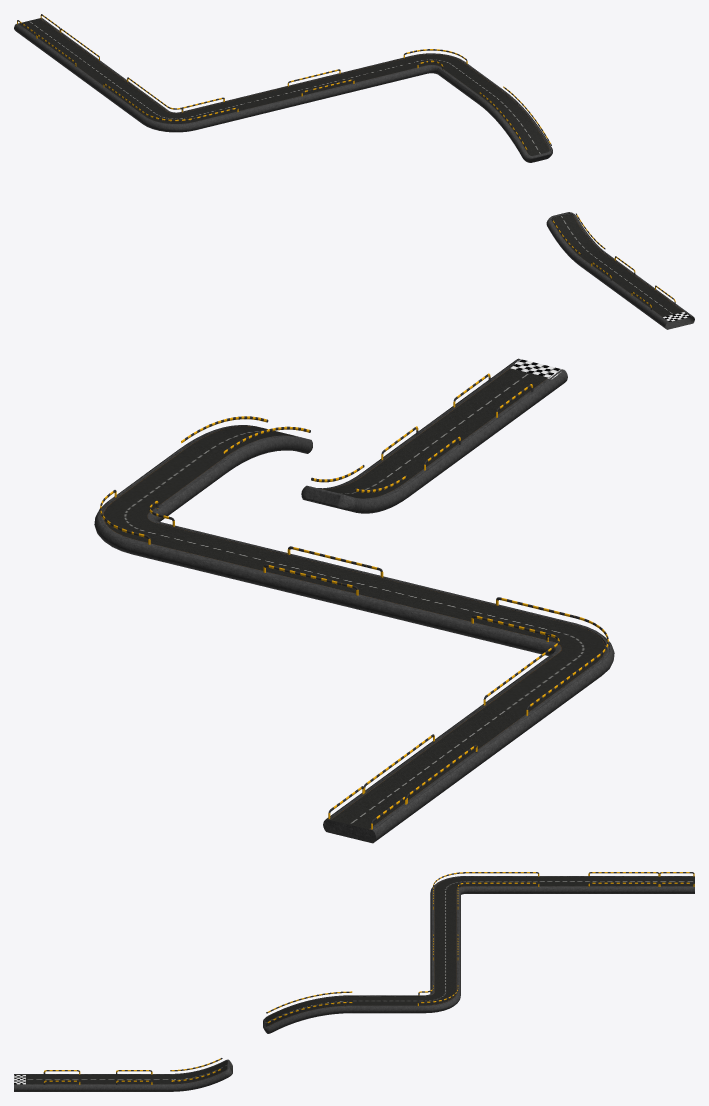
File: map5.fbx
3 renders of one model, top to bottom at view 1: azimuth 30°, elevation 25°; view 2: azimuth 150°, elevation 25°; view 3: azimuth 270°, elevation 25°, orthographic. The views are drawn at different scales.
Visible parts, largest first — view 1: Terrain_Flat_Bar_4, Terrain_Flat_Bar_4__1_, Terrain_Flat_BarStart_3, Terrain_CurveDown_Bar_3_1, Terrain_CurveDown_Bar_3_3, Terrain_Flat_Bar_11__2_, Terrain_Flat_2, Terrain_Flat_Bar_11, Terrain_Flat_BarStart_1, Terrain_Left_Flat_Bar, Dummy_Start_1, Terrain_Right_Flat_Bar_3; view 2: Terrain_Flat_Bar_4, Terrain_Flat_Bar_4__1_, Terrain_Flat_BarStart_3, Terrain_Flat_2, Terrain_Flat_Bar_11__2_, Terrain_Flat_Bar_11, Terrain_Flat_BarStart_1, Terrain_CurveDown_Bar_3_1, Dummy_Start_1, Terrain_Right_Flat_Bar_3, Terrain_CurveDown_Bar_3_3, Terrain_Left_Flat_Bar (+2 smaller); view 3: Terrain_Flat_BarStart_3, Terrain_Flat_Bar_4__1_, Terrain_Flat_Bar_4, Terrain_CurveDown_Bar_3_1, Terrain_Flat_2, Terrain_Flat_Bar_11, Terrain_Flat_Bar_11__2_, Terrain_Flat_BarStart_1, Terrain_CurveDown_Bar_3_3, Terrain_Right_Flat_Bar_3, Dummy_Start_1, Terrain_Left_Flat_Bar.
Boxes of the visible parts, x1=… form: Terrain_Flat_Bar_4: x1=296, y1=55, x2=428, y2=101; Terrain_Flat_Bar_4__1_: x1=180, y1=84, x2=312, y2=129; Terrain_Flat_BarStart_3: x1=34, y1=32, x2=130, y2=93; Terrain_CurveDown_Bar_3_1: x1=477, y1=91, x2=552, y2=157; Terrain_CurveDown_Bar_3_3: x1=547, y1=216, x2=607, y2=264; Terrain_Flat_Bar_11__2_: x1=618, y1=282, x2=688, y2=323; Terrain_Flat_2: x1=437, y1=61, x2=506, y2=103; Terrain_Flat_Bar_11: x1=578, y1=253, x2=647, y2=294; Terrain_Flat_BarStart_1: x1=101, y1=81, x2=170, y2=123; Terrain_Left_Flat_Bar: x1=141, y1=111, x2=196, y2=132; Dummy_Start_1: x1=14, y1=18, x2=63, y2=44; Terrain_Right_Flat_Bar_3: x1=412, y1=53, x2=466, y2=74; Terrain_Flat_Bar_4: x1=131, y1=522, x2=368, y2=605; Terrain_Flat_Bar_4__1_: x1=339, y1=572, x2=577, y2=655; Terrain_Flat_BarStart_3: x1=359, y1=705, x2=532, y2=815; Terrain_Flat_2: x1=104, y1=449, x2=229, y2=522; Terrain_Flat_Bar_11__2_: x1=430, y1=367, x2=555, y2=442; Terrain_Flat_Bar_11: x1=358, y1=420, x2=483, y2=495; Terrain_Flat_BarStart_1: x1=479, y1=652, x2=604, y2=727; Terrain_CurveDown_Bar_3_1: x1=176, y1=425, x2=311, y2=472; Dummy_Start_1: x1=323, y1=793, x2=412, y2=843; Terrain_Right_Flat_Bar_3: x1=94, y1=502, x2=160, y2=554; Terrain_CurveDown_Bar_3_3: x1=317, y1=473, x2=411, y2=513; Terrain_Left_Flat_Bar: x1=547, y1=623, x2=614, y2=674; Terrain_Flat_BarStart_3: x1=538, y1=876, x2=658, y2=893; Terrain_Flat_Bar_4__1_: x1=430, y1=890, x2=460, y2=947; Terrain_Flat_Bar_4: x1=430, y1=941, x2=460, y2=998; Terrain_CurveDown_Bar_3_1: x1=268, y1=995, x2=352, y2=1032; Terrain_Flat_2: x1=352, y1=995, x2=424, y2=1013; Terrain_Flat_Bar_11: x1=98, y1=1074, x2=170, y2=1091; Terrain_Flat_Bar_11__2_: x1=26, y1=1074, x2=97, y2=1091; Terrain_Flat_BarStart_1: x1=466, y1=876, x2=538, y2=893; Terrain_CurveDown_Bar_3_3: x1=170, y1=1061, x2=227, y2=1091; Terrain_Right_Flat_Bar_3: x1=424, y1=992, x2=460, y2=1013; Dummy_Start_1: x1=659, y1=876, x2=694, y2=893; Terrain_Left_Flat_Bar: x1=430, y1=876, x2=466, y2=896.
Size of the model in its own units: 5212 by 1644 by 11332.
6 materials, 6 textured.
